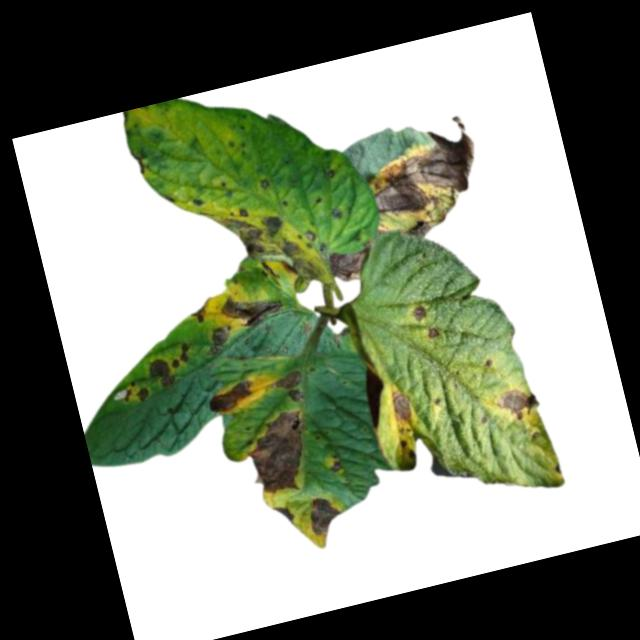Early_blight: (355, 111, 491, 249), (240, 406, 319, 500), (209, 202, 269, 270), (219, 283, 287, 333), (275, 233, 323, 288), (206, 371, 257, 416), (492, 380, 542, 425), (327, 242, 374, 285), (303, 488, 344, 536), (270, 367, 309, 404), (199, 321, 235, 358), (386, 383, 416, 426), (145, 355, 176, 393), (120, 375, 153, 408), (257, 205, 286, 241), (167, 339, 195, 370), (187, 297, 212, 327), (269, 502, 296, 527), (323, 451, 343, 475), (397, 436, 417, 460), (409, 303, 429, 323), (328, 202, 346, 222), (422, 322, 441, 340), (188, 190, 206, 208), (320, 162, 336, 179), (257, 175, 270, 191)
